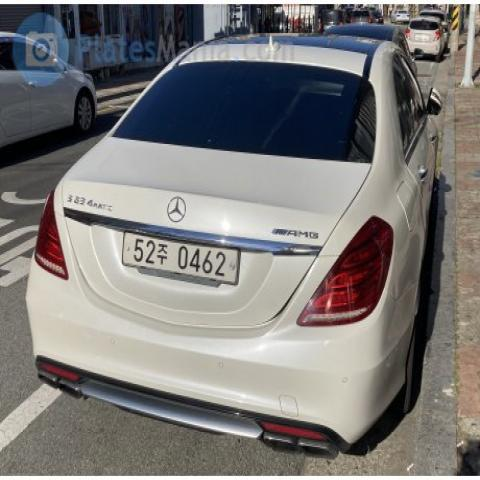LP: (118, 222, 244, 296)
